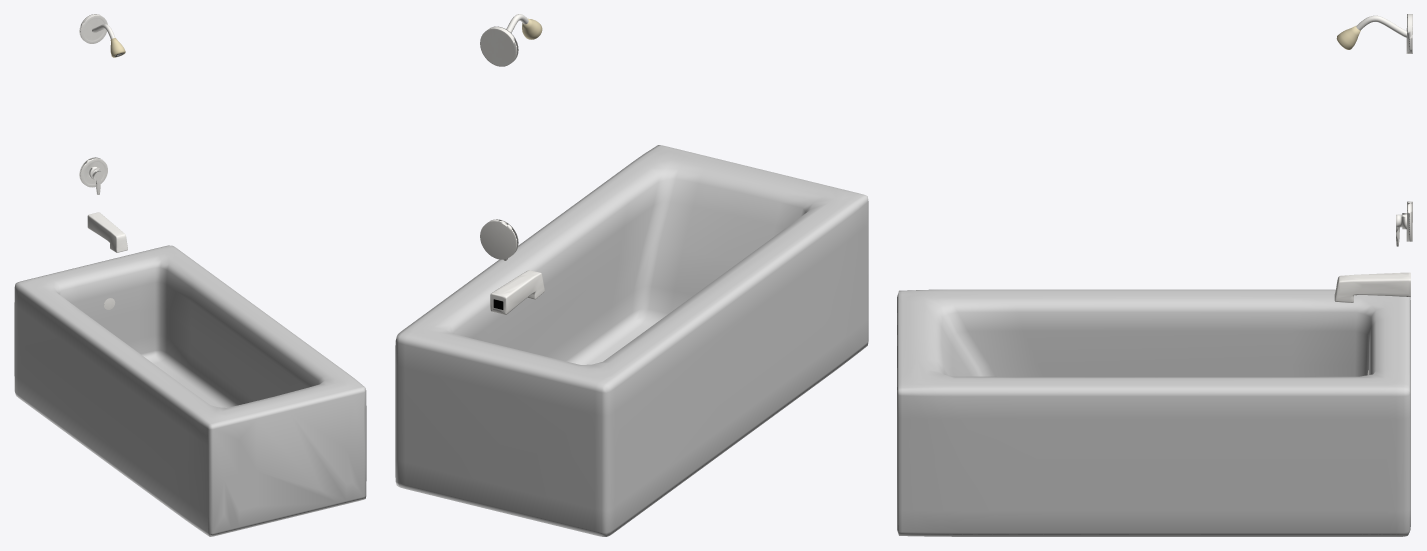
File: u_vanna_pryamougolnaya.glb
The picture shows the model from 3 angles, left to right: view 1: azimuth 30°, elevation 25°; view 2: azimuth 150°, elevation 25°; view 3: azimuth 270°, elevation 25°; orthographic projection. The views are drawn at different scales.
Visible parts, largest first — view 1: Bathtub, Disk, Drain; view 2: Bathtub, Disk, Drain; view 3: Bathtub, Drain, Disk.
Part boxes in pixels (x1=…): Bathtub: x1=14, y1=245, x2=366, y2=536; Disk: x1=79, y1=14, x2=115, y2=309; Drain: x1=87, y1=24, x2=127, y2=252; Bathtub: x1=395, y1=145, x2=868, y2=536; Disk: x1=480, y1=26, x2=518, y2=260; Drain: x1=490, y1=14, x2=544, y2=314; Bathtub: x1=897, y1=289, x2=1410, y2=536; Drain: x1=1334, y1=15, x2=1410, y2=302; Disk: x1=1367, y1=14, x2=1412, y2=375.
Bounding box in the file's own units: 1.65 × 3.55 × 3.51.
Materials: 6 (2 with a texture image).
